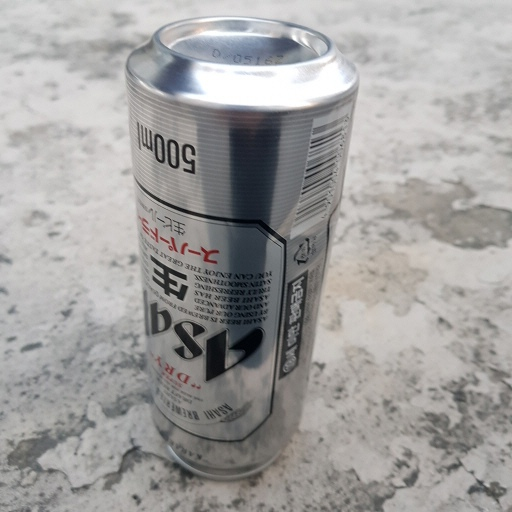Metal_0: (121, 15, 361, 480)
